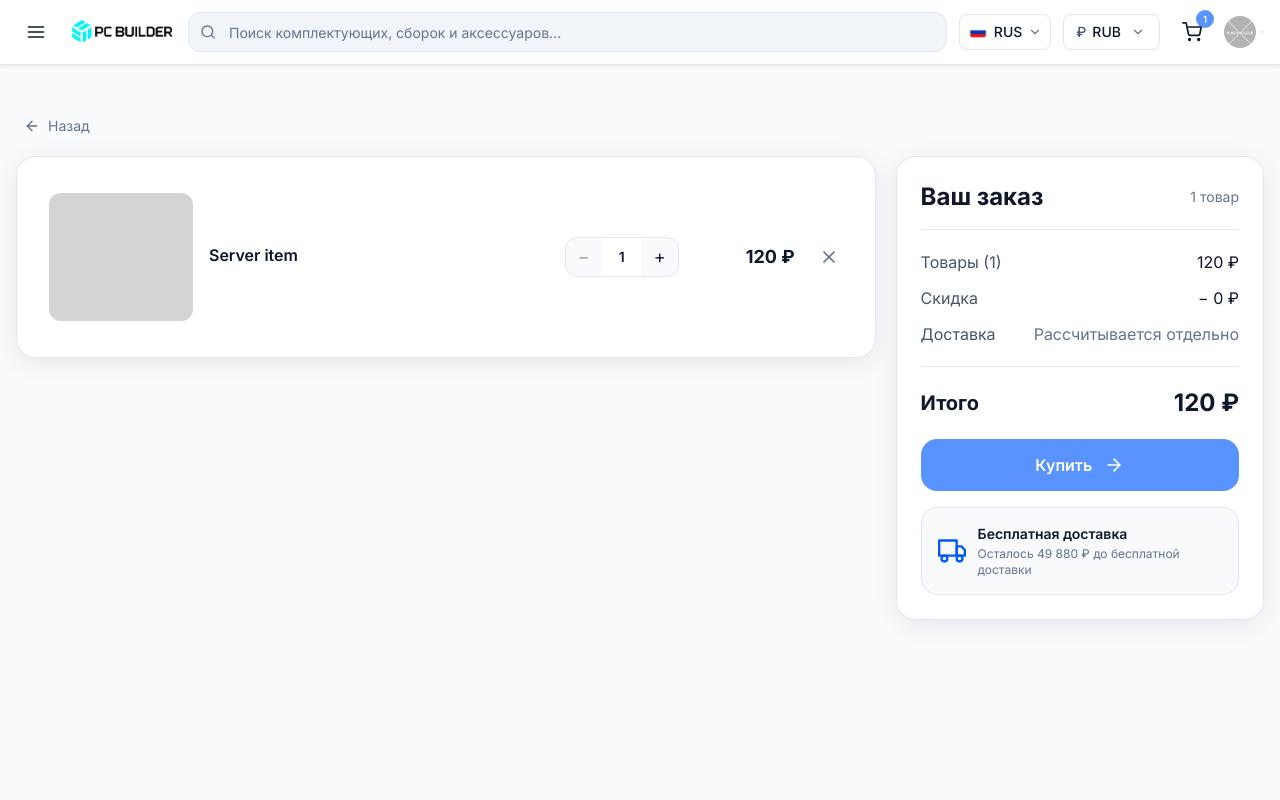
server cart › updates and reloads server quantity and total, then removes the item
The image size is (1280, 800).
Expected: the heading "Server item" is shown, x1=209 y1=245 x2=298 y2=265
What coordinates should you click on to do the following:
click the button "+"
I would click on:
 (660, 257)
Its box is x1=642 y1=238 x2=678 y2=276.
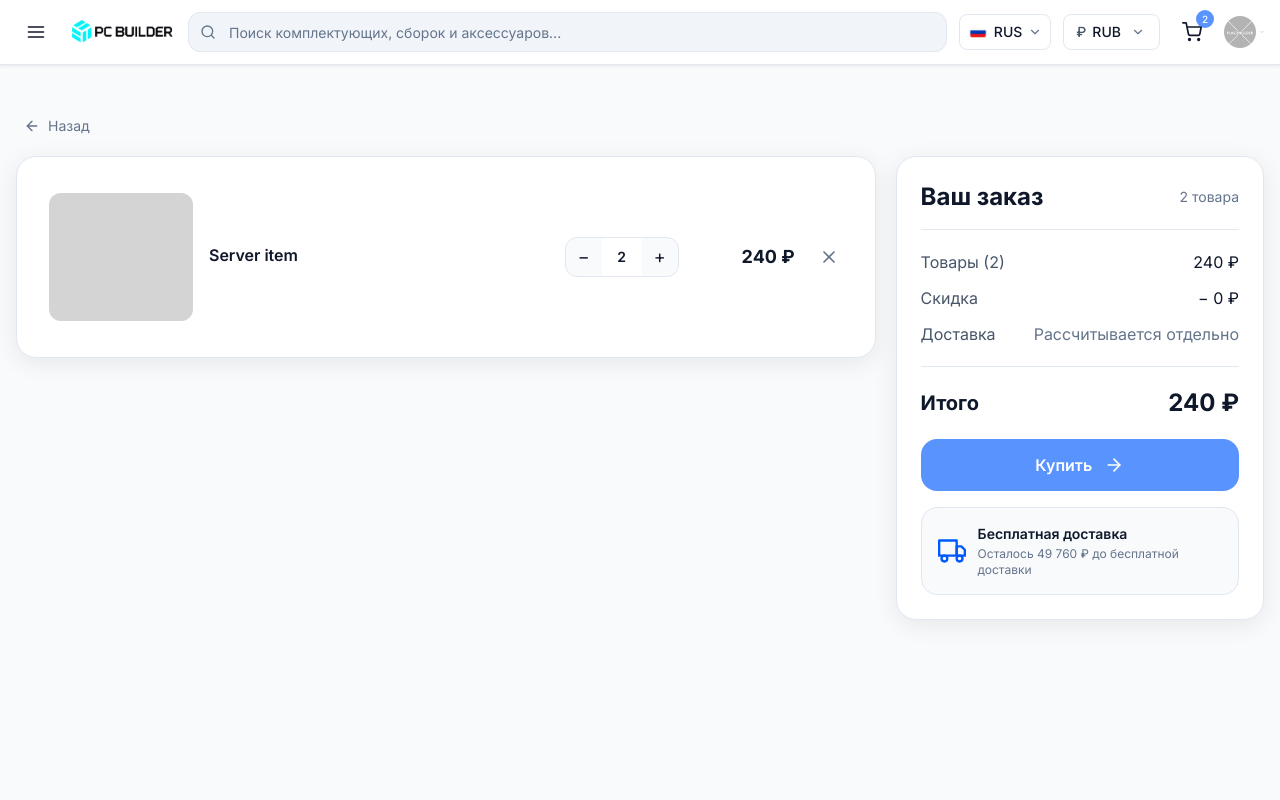
Expected: the text named "Количество: 2" is shown, x1=602 y1=238 x2=642 y2=276
What coordinates should you click on to do the following:
click the button named "Удалить: Server item"
I would click on:
 (829, 257)
Its box is x1=815 y1=243 x2=843 y2=271.
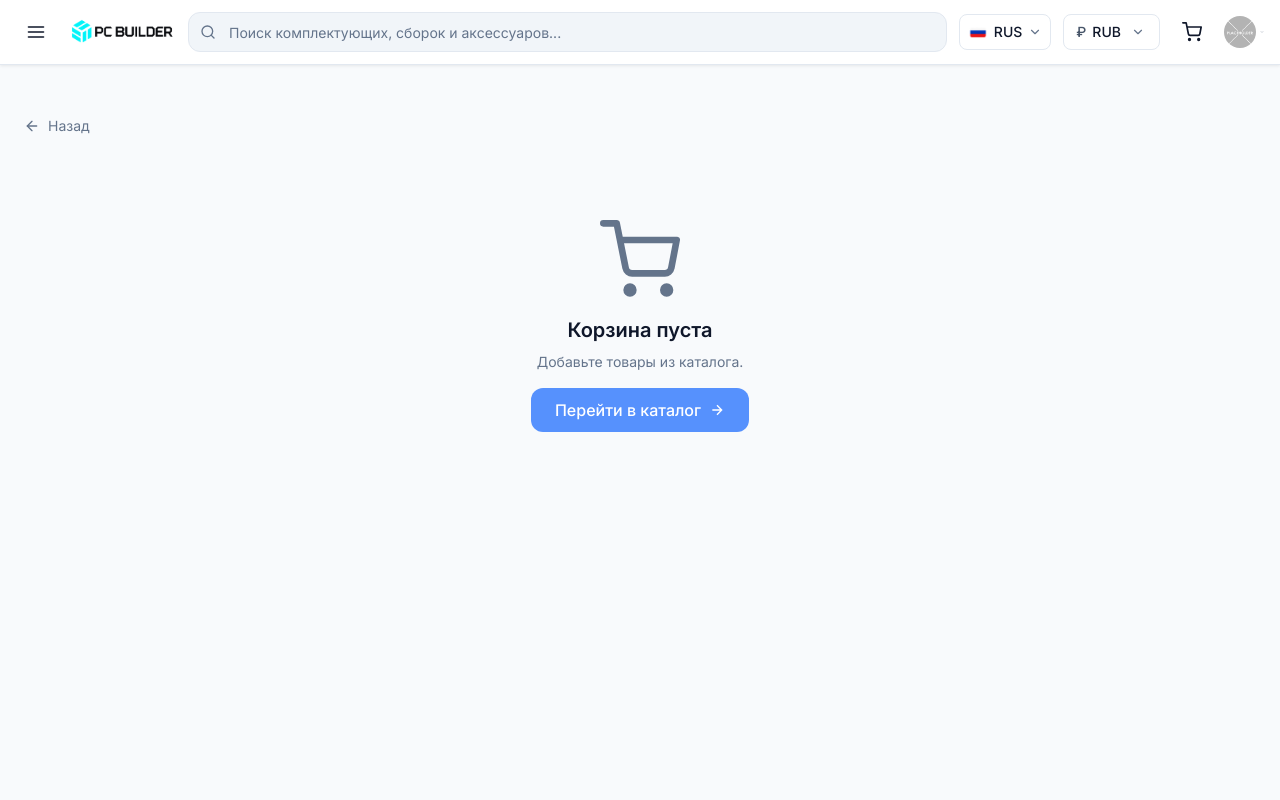
Expected: the heading "Корзина пуста" is shown, x1=567 y1=316 x2=713 y2=344
